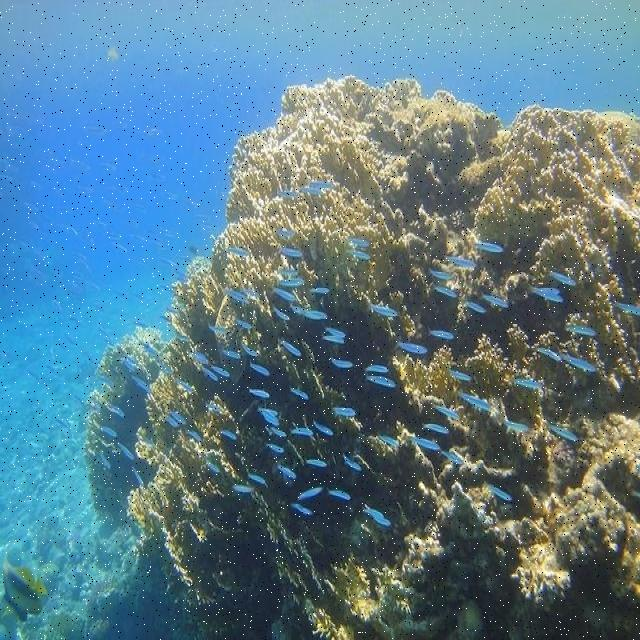fish: (0, 564, 48, 626), (392, 333, 429, 355), (458, 392, 491, 411), (531, 285, 564, 304), (363, 505, 394, 525), (549, 422, 579, 441), (562, 356, 597, 372), (612, 300, 639, 319), (427, 323, 455, 341), (471, 240, 507, 254), (295, 305, 328, 320), (546, 270, 576, 286), (446, 254, 478, 269), (367, 303, 396, 319), (341, 453, 363, 474), (480, 293, 510, 308), (562, 322, 596, 335), (257, 408, 279, 428), (410, 437, 441, 451), (143, 339, 163, 360), (441, 449, 465, 466), (373, 434, 400, 449), (435, 403, 460, 419), (492, 484, 514, 502), (277, 341, 300, 358), (290, 501, 313, 518), (537, 346, 561, 362), (106, 400, 127, 418), (436, 284, 460, 299), (200, 364, 218, 384), (226, 289, 247, 306), (274, 286, 296, 302), (246, 472, 268, 488), (325, 487, 352, 500), (298, 485, 321, 500), (278, 462, 296, 481), (365, 375, 396, 386), (289, 384, 309, 401), (447, 369, 473, 382), (333, 405, 358, 418), (312, 421, 331, 438), (280, 244, 303, 258), (95, 424, 118, 438), (120, 442, 136, 462), (514, 377, 538, 390), (501, 420, 529, 431), (365, 363, 389, 375), (427, 423, 451, 435), (131, 375, 149, 391), (130, 465, 143, 487), (174, 379, 193, 394), (292, 425, 313, 438), (273, 306, 291, 321), (463, 301, 487, 312), (205, 457, 221, 473), (253, 363, 270, 378), (281, 278, 304, 289), (432, 267, 453, 279), (172, 406, 186, 424), (301, 186, 326, 196), (348, 250, 372, 260), (184, 427, 200, 442), (236, 317, 253, 331), (326, 323, 345, 335), (193, 350, 209, 364), (330, 359, 352, 369), (210, 366, 230, 377), (252, 388, 271, 399), (99, 453, 112, 469), (229, 246, 249, 256), (221, 349, 241, 359), (352, 237, 370, 248), (245, 343, 258, 358), (165, 414, 178, 429), (325, 334, 344, 344), (308, 459, 329, 468), (276, 228, 293, 239), (126, 356, 137, 373), (279, 189, 298, 198), (235, 485, 254, 494), (160, 360, 173, 373), (281, 267, 299, 276), (270, 429, 288, 438), (209, 322, 225, 332), (268, 442, 284, 452), (312, 181, 329, 189), (312, 288, 330, 295), (224, 431, 236, 441)
reefs: (86, 75, 639, 639)
